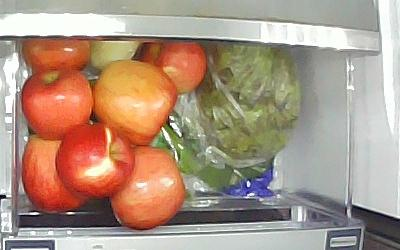apple: (92, 59, 177, 147), (108, 145, 187, 230), (54, 124, 136, 201), (22, 136, 87, 212), (21, 72, 92, 141), (137, 43, 208, 93), (22, 38, 92, 72)
